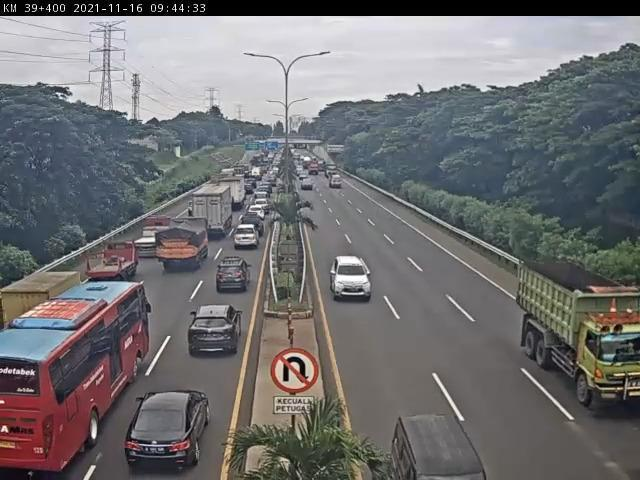bus: (2, 282, 149, 473)
car: (126, 390, 212, 466), (188, 304, 243, 355), (332, 256, 371, 306), (218, 255, 249, 291), (233, 227, 258, 251), (242, 219, 265, 236), (248, 204, 267, 219)
truck: (517, 264, 640, 412), (1, 269, 89, 332), (156, 219, 208, 271), (132, 210, 178, 257), (192, 184, 235, 234), (88, 239, 139, 280), (217, 180, 245, 211)
